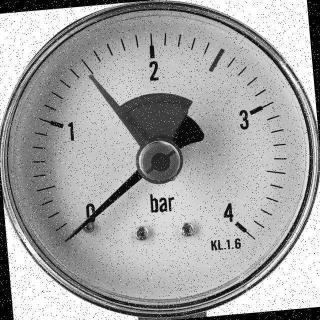gauge: (0, 0, 320, 320), (135, 136, 185, 184), (56, 217, 88, 254), (225, 208, 252, 242), (84, 70, 98, 86), (61, 232, 76, 246)
